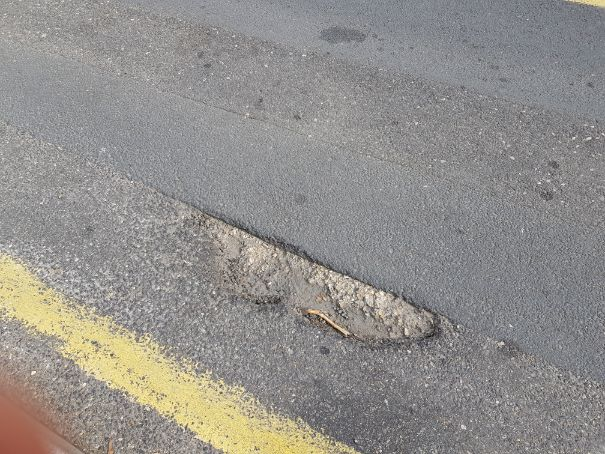pothole: (171, 202, 446, 350)
